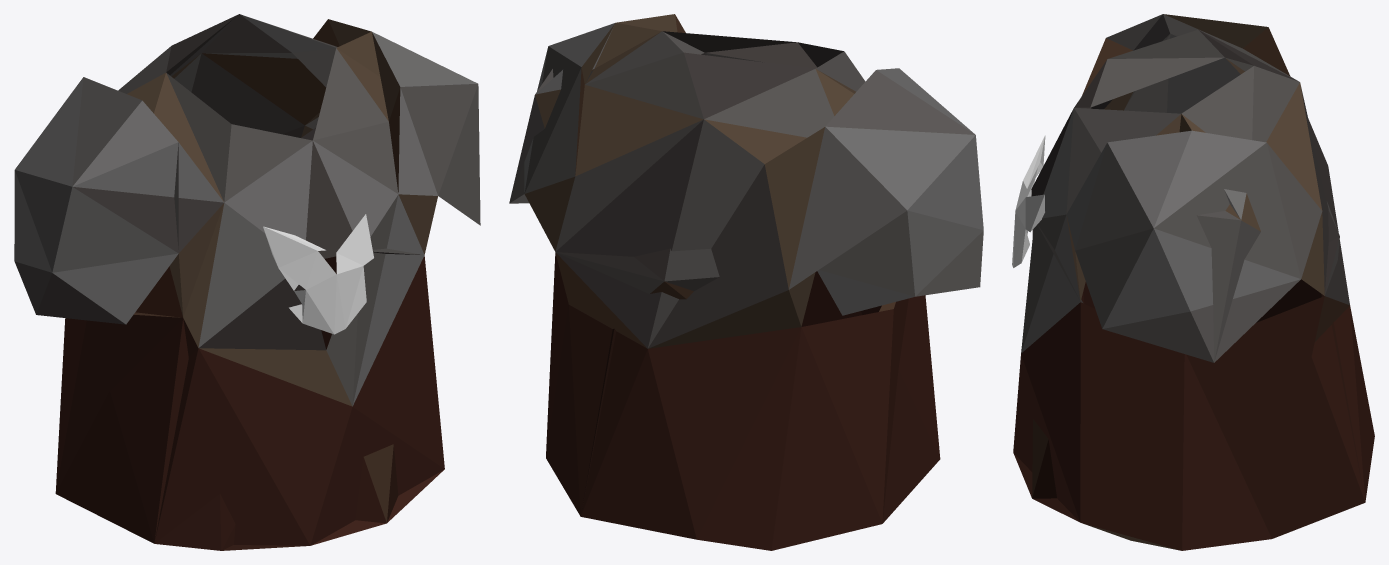
File: aiwpn_body_lo.glb
3 views of the same model, side by side, from view 1: azimuth 30°, elevation 25°; view 2: azimuth 150°, elevation 25°; view 3: azimuth 270°, elevation 25° (orthographic). The views are drawn at different scales.
Visible parts, largest first — view 1: ca_aiwpn_body_lo; view 2: ca_aiwpn_body_lo; view 3: ca_aiwpn_body_lo.
Part boxes in pixels (<box>): ca_aiwpn_body_lo: <box>14,14,480,550</box>; ca_aiwpn_body_lo: <box>509,14,983,550</box>; ca_aiwpn_body_lo: <box>1012,14,1374,550</box>.
Bounding box in the file's own units: 0.5253 × 0.4898 × 0.3856.
